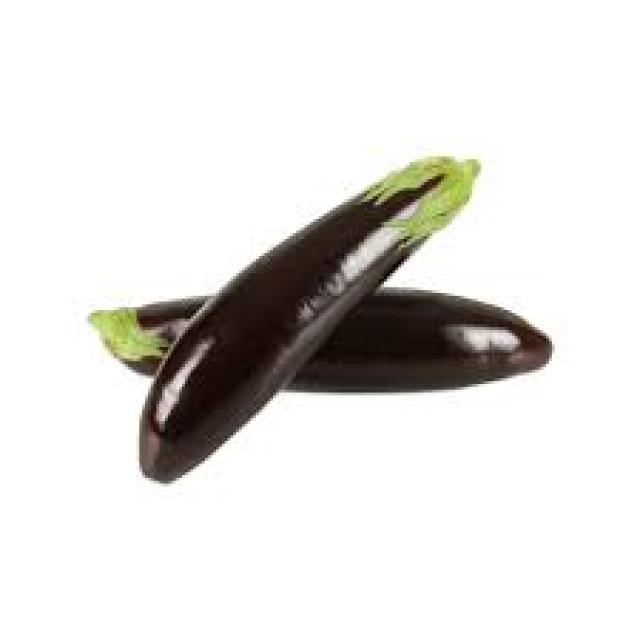eggplant: (133, 159, 460, 481), (85, 282, 549, 392)
